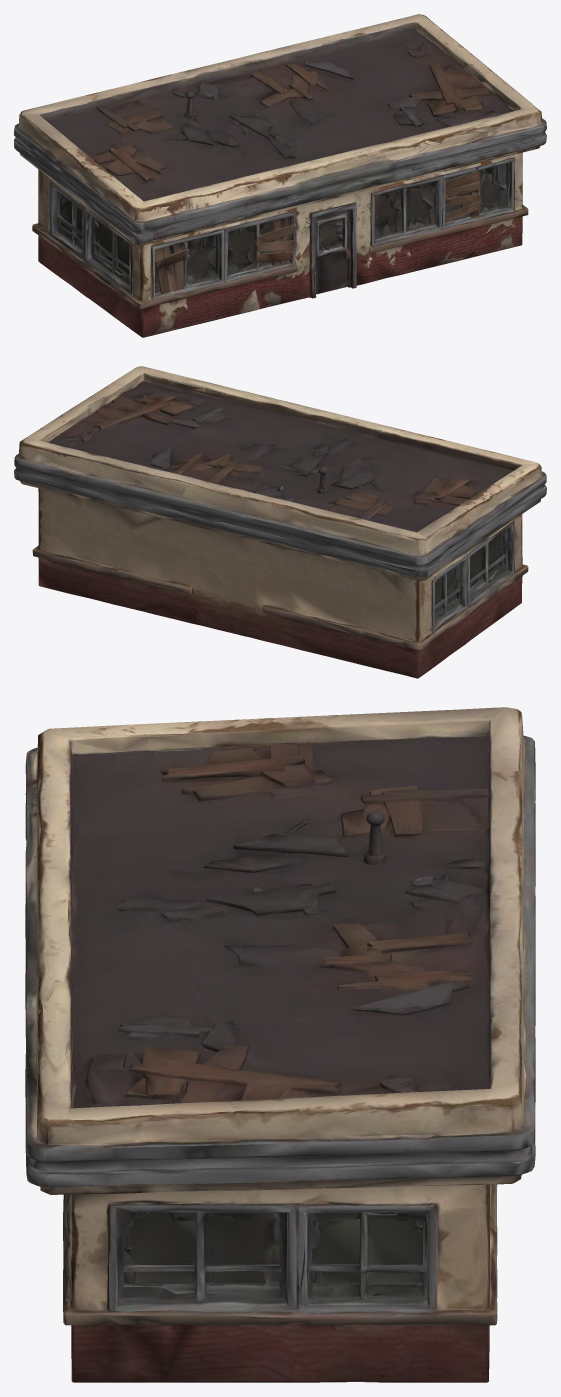
The model's file is electronics_shop_idle.glb.
3 renders of one model, top to bottom at view 1: azimuth 30°, elevation 25°; view 2: azimuth 150°, elevation 25°; view 3: azimuth 270°, elevation 25°, orthographic. The views are drawn at different scales.
Parts seen in each view (by area): view 1: tripo_node_63827e25-e402-4db2-a329-5c73c342fc09; view 2: tripo_node_63827e25-e402-4db2-a329-5c73c342fc09; view 3: tripo_node_63827e25-e402-4db2-a329-5c73c342fc09.
Boxes of the visible parts, x1,y1,x2,y2 form: tripo_node_63827e25-e402-4db2-a329-5c73c342fc09: [14, 14, 546, 337]; tripo_node_63827e25-e402-4db2-a329-5c73c342fc09: [14, 366, 546, 678]; tripo_node_63827e25-e402-4db2-a329-5c73c342fc09: [25, 707, 535, 1382].
Bounding box in the file's own units: 10 × 3.7 × 5.34.
1 material, 1 textured.
